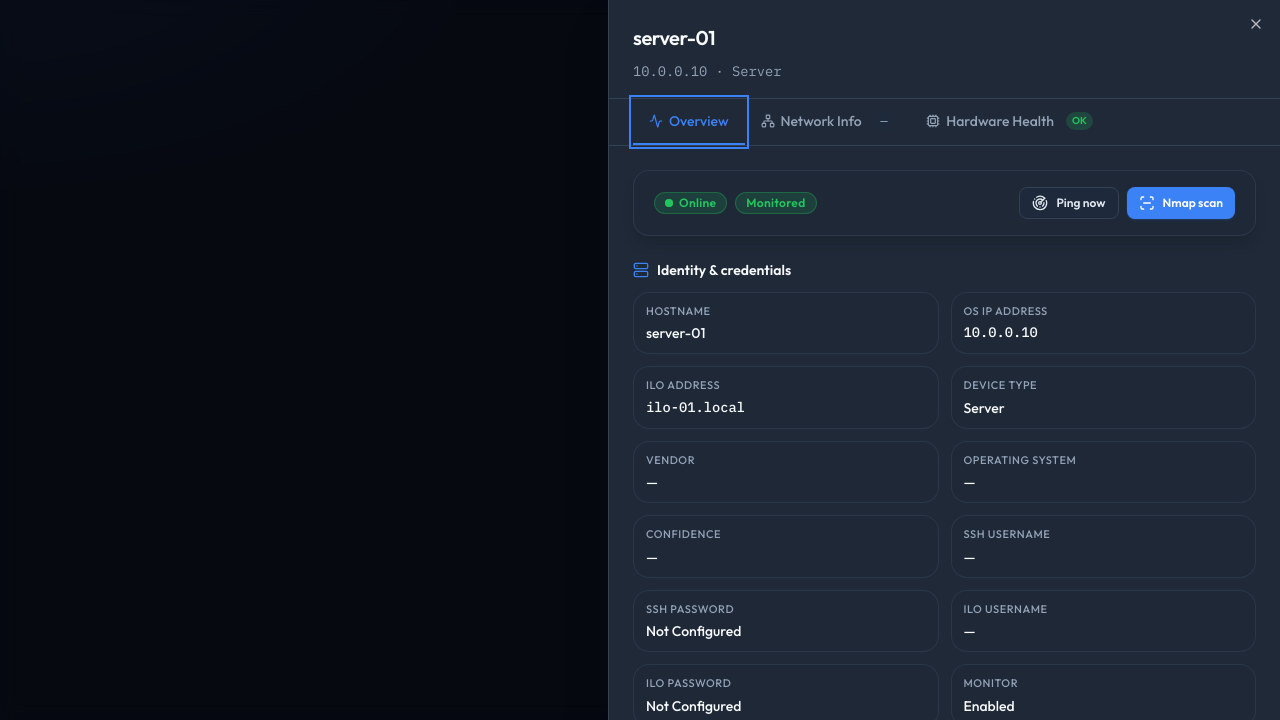
Test: DeviceDrawer - HPE iLO Hardware & Freshness UI › 1. Fresh state: renders Fresh badge and collection details
The image size is (1280, 720).
Click the button "Hardware Health OK" at (1010, 122), box [910,99,1109,145]
(page scrolled)
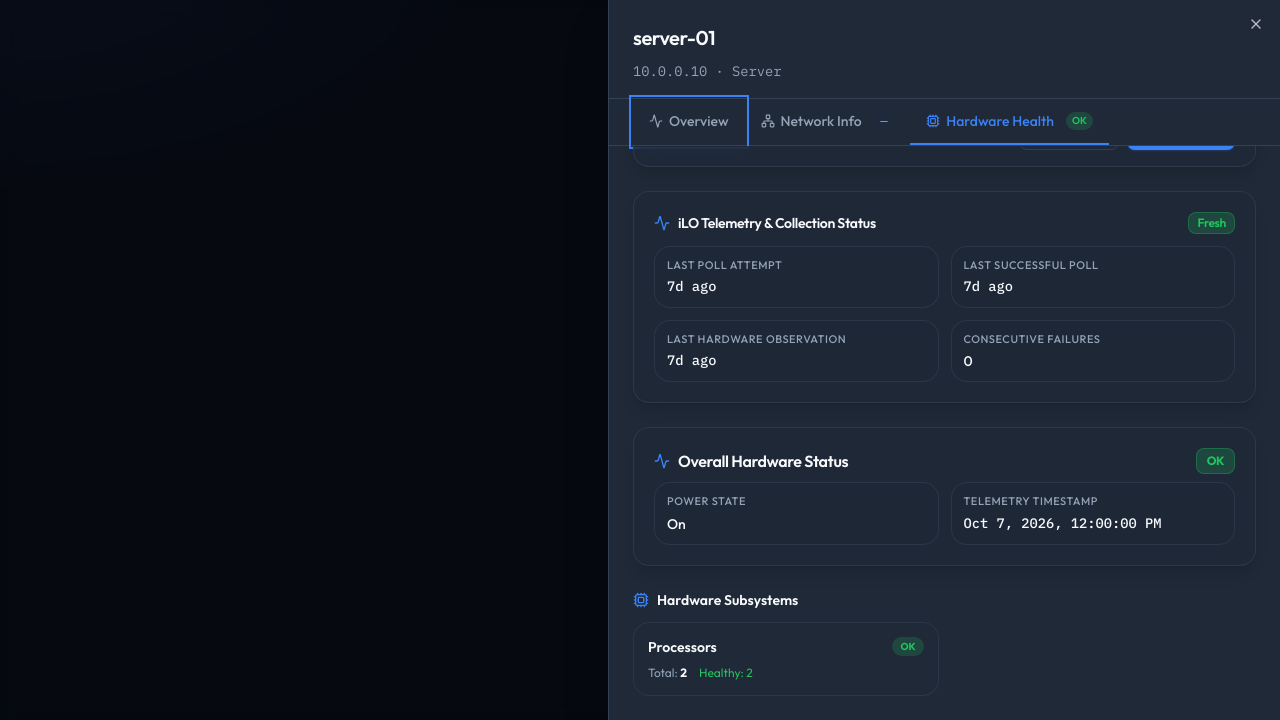
Expected: the text "Fresh" is shown, [1188,212,1235,234]
Expected: the text "iLO Telemetry & Collection Status" is shown, [654,213,876,233]
Expected: the text "Overall Hardware Status" is shown, [654,449,848,473]
